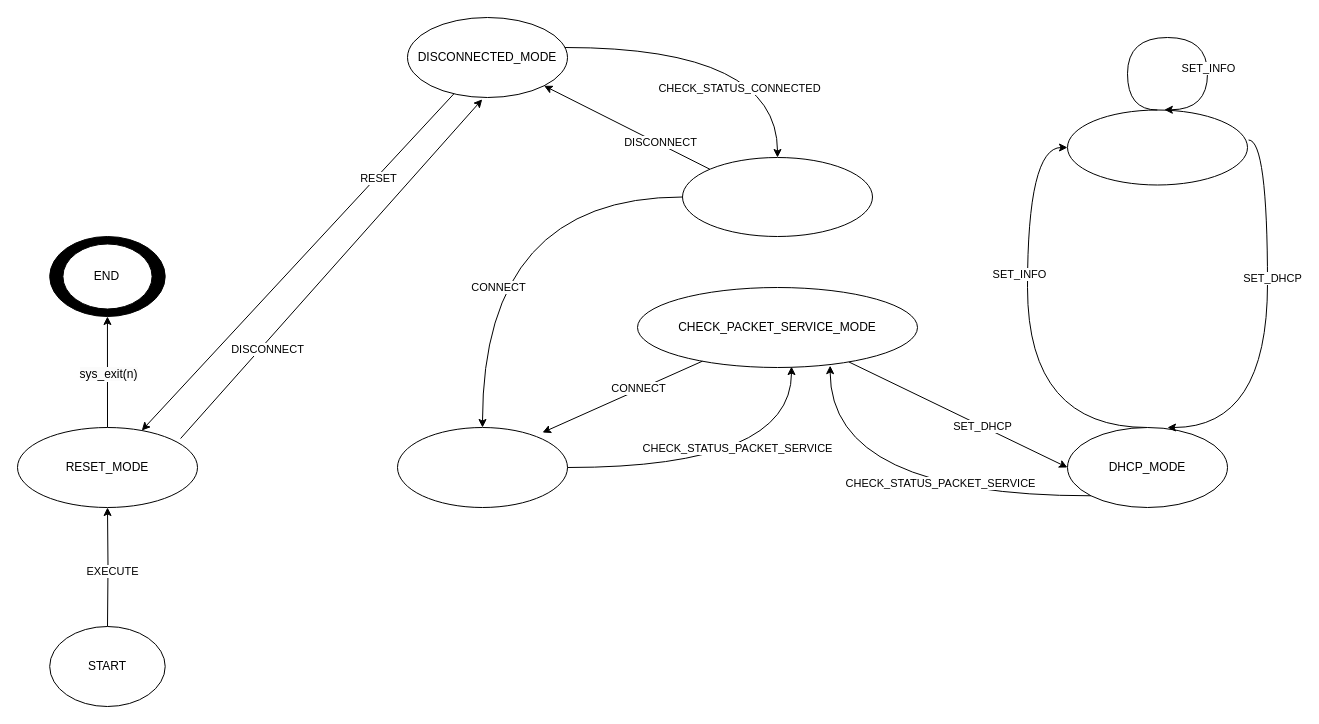
Image size: 1319x724. Some labels were removed from this diagram. Here are the shapes that lost their labels. From the top down, the centre of each, then its label:
At (x=1157, y=147): "GET_INFO_MODE".
At (x=777, y=196): "STATUS_CONNECTED_MODE".
At (x=482, y=467): "CONNECTED_MODE".
